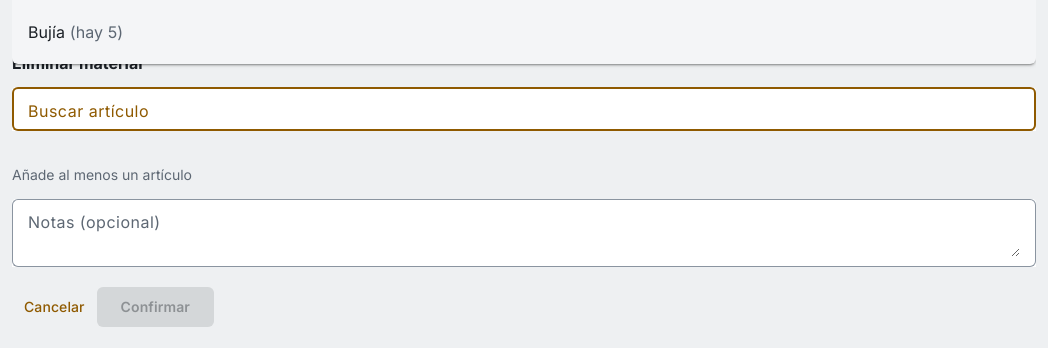
it: OperationFormComponent › al elegir una opción el campo queda vacío y se añade la línea
Click the dropdown labelled "Buscar artículo" at x=524, y=109, box [28,97,1020,121]
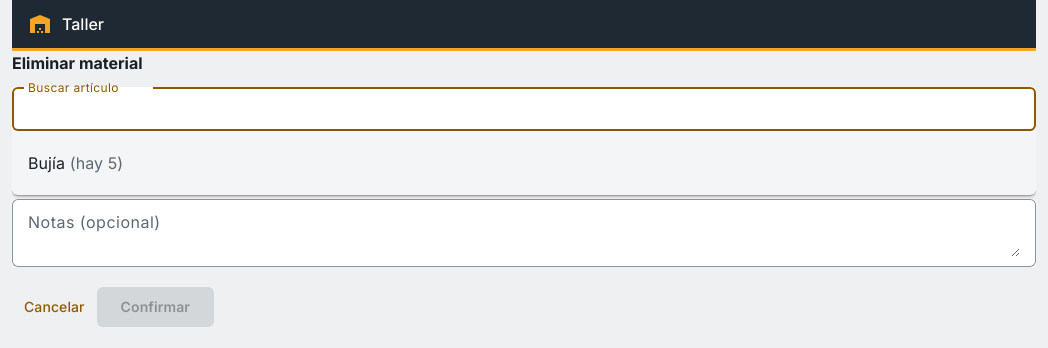
Click the option "Bujía (hay 5)" at x=76, y=163, box [28,153,123,173]
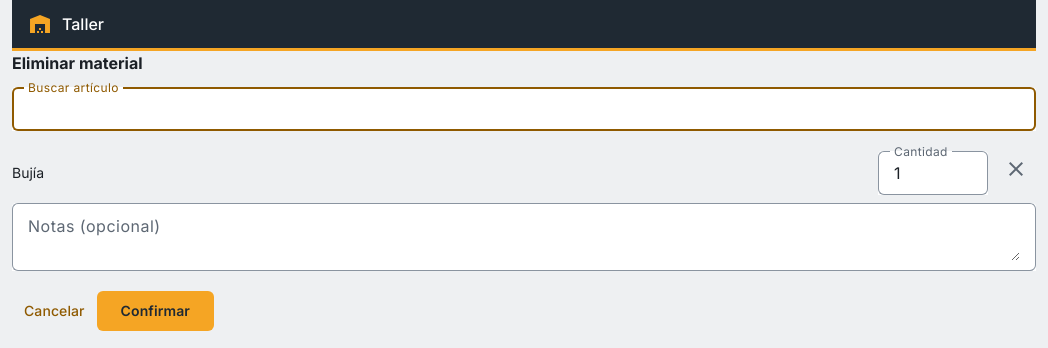
Expected: the dropdown labelled "Buscar artículo" is empty, [28,97,1020,121]
Now the number of elements with class "line" is 1, box [12,151,1036,195]
